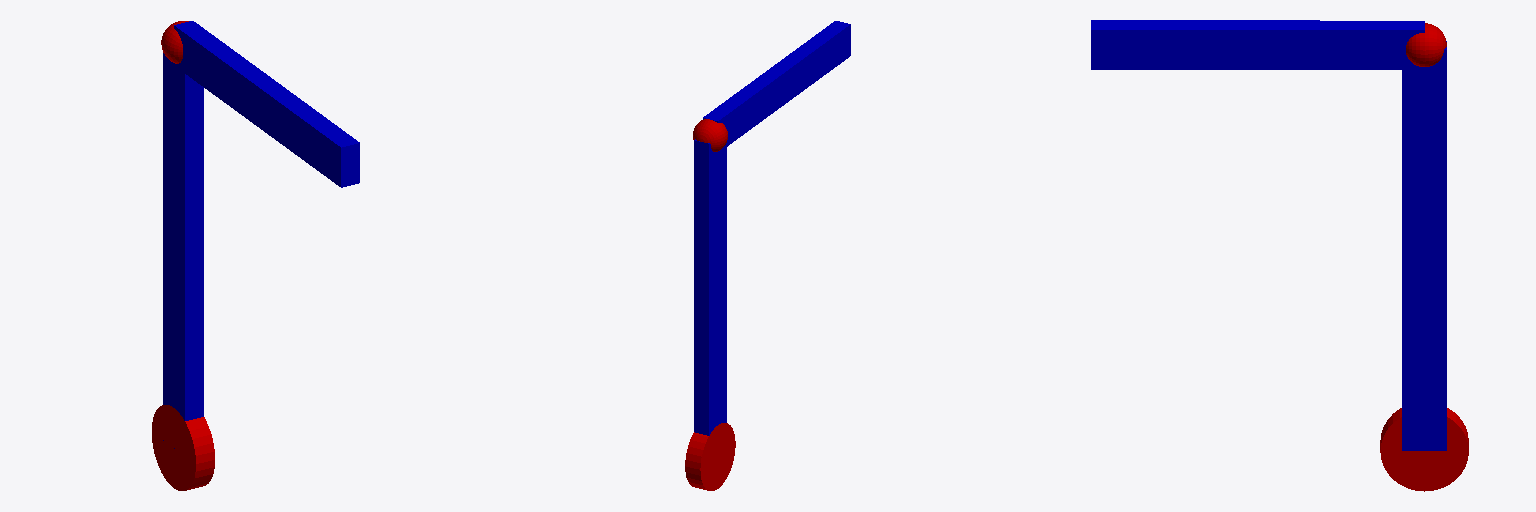
The robot description file, URDF, robot "TwoLinkStruct4594031946":
<?xml version="1.0"?>
<robot  name="TwoLinkStruct4594031946" >
 <material  name="blue" >
  <color  rgba="0 0 0.8 1.0" />
 </material>
 <material  name="red" >
  <color  rgba="0.8 0 0 1.0" />
 </material>
 <link  name="base_link" >
  <visual >
   <origin  rpy="0 1.5707 0"  xyz="0 0 0" />
   <material  name="red" />
   <geometry >
    <cylinder  length="0.05"  radius="0.1" />
   </geometry>
  </visual>
 </link>
 <joint  type="revolute"  name="joint1" >
  <parent  link="base_link" />
  <child  link="link1" />
  <origin  xyz="0 0 0"  rpy="0 0 0" />
  <axis  xyz="1 0 0" />
 </joint>
 <link  name="link1" >
  <inertial >
   <origin  rpy="0 0 0"  xyz="0 0 0.4997479538070032" />
   <mass  value="4.017385409107768" />
   <inertia  ixy="0.0"  iyy="0.0016739105871282371"  izz="0.33528163555768314"  ixz="0.0"  ixx="0.33528163555768314"  iyz="0.0" />
  </inertial>
  <visual >
   <origin  rpy="0 0 0"  xyz="0 0 0.4997479538070032" />
   <material  name="blue" />
   <geometry >
    <box  size="0.05 0.1 0.9994959076140064" />
   </geometry>
  </visual>
 </link>
 <joint  type="fixed"  name="joint-joint-1" >
  <parent  link="link1" />
  <child  link="joint-link-1" />
  <origin  xyz="0 0 0.9994959076140064"  rpy="1.5707 0 0" />
  <axis  xyz="1 0 0" />
 </joint>
 <link  name="joint-link-1" >
  <inertial >
   <origin  rpy="0 0 0"  xyz="0 0 0" />
   <mass  value="0.9812195619472411" />
   <inertia  ixy="0"  iyy="0"  izz="0"  ixz="0"  ixx="0"  iyz="0" />
  </inertial>
  <visual >
   <origin  rpy="0 0 0"  xyz="0 0 0" />
   <material  name="red" />
   <geometry >
    <sphere  radius="0.05" />
   </geometry>
  </visual>
 </link>
 <joint  type="revolute"  name="joint2" >
  <parent  link="link1" />
  <child  link="link2" />
  <origin  xyz="0 0 0.9994959076140064"  rpy="1.5707 0 0" />
  <axis  xyz="1 0 0" />
 </joint>
 <link  name="link2" >
  <inertial >
   <origin  rpy="0 0 0"  xyz="0 0 0.37642178841868046" />
   <mass  value="2.425648634577637" />
   <inertia  ixy="0.0"  iyy="0.0016739105871282371"  izz="0.190582571382011"  ixz="0.0"  ixx="0.190582571382011"  iyz="0.0" />
  </inertial>
  <visual >
   <origin  rpy="0 0 0"  xyz="0 0 0.37642178841868046" />
   <material  name="blue" />
   <geometry >
    <box  size="0.05 0.1 0.7528435768373609" />
   </geometry>
  </visual>
 </link>
 <joint  type="fixed"  name="eef_joint" >
  <parent  link="link2" />
  <child  link="eef" />
  <origin  xyz="0 0 0.7528435768373609"  rpy="0 0 0" />
 </joint>
 <link  name="eef" >
  <inertial >
   <origin  rpy="0 0 0"  xyz="0 0 0" />
   <mass  value="1" />
   <inertia  ixy="0"  iyy="0"  izz="0"  ixz="0"  ixx="0"  iyz="0" />
  </inertial>
 </link>
 <transmission  name="motor1" >
  <type  xmltext="SimpleTransmission" >
   SimpleTransmission
  </type>
  <actuator  name="motor1" >
   <mechanicalreduction  xmltext="1" >
    1
   </mechanicalreduction>
  </actuator>
  <joint  name="joint1" />
 </transmission>
 <transmission  name="motor2" >
  <type  xmltext="SimpleTransmission" >
   SimpleTransmission
  </type>
  <actuator  name="motor2" >
   <mechanicalreduction  xmltext="1" >
    1
   </mechanicalreduction>
  </actuator>
  <joint  name="joint2" />
 </transmission>
</robot>

<!-- {'carti': array([-0.1 ,  0.14,  0.85]), 'cartd': array([-0.1 ,  0.32,  1.29]), 'tau_mu': 0.34028190278453263, 'b0': 0.770771125538991, 'Km': 3.5640501591079676, 'k_velocity': 73.76175721391652, 'tau_max_m': 0.36509562176235755, 'omega_max_m': 7996.225785212918, 'gear_ratio': 14.438549083275804, 'Kp': 84.30415760495418, 'Kd': 90.96548750946137, 'm_m': 0.9812195619472411, 'l1': 0.9994959076140064, 'l2': 0.7528435768373609, 'k1': 10024.712722477423, 'k2': 65275142.12501995, 'k3': 333756566.77244705}-->

--- Render facts (derived) ---
Views: 3 orthographic renders of the robot side by side, from view 1: azimuth 30°, elevation 25°; view 2: azimuth 150°, elevation 25°; view 3: azimuth 270°, elevation 25°.
Robot: TwoLinkStruct4594031946 — 5 links, 4 joints (2 revolute, 2 fixed); root link base_link; default pose: all joints at 0.
Visible links, largest first — view 1: link1, link2, base_link, joint-link-1; view 2: link1, link2, base_link, joint-link-1; view 3: link1, link2, base_link, joint-link-1.
Boxes of the visible links, bbox=[...] form: link1: bbox=[163, 52, 203, 448]; link2: bbox=[174, 21, 359, 187]; base_link: bbox=[152, 405, 214, 490]; joint-link-1: bbox=[161, 21, 188, 63]; link1: bbox=[694, 139, 726, 435]; link2: bbox=[703, 21, 850, 148]; base_link: bbox=[685, 423, 735, 490]; joint-link-1: bbox=[693, 119, 727, 151]; link1: bbox=[1402, 41, 1446, 450]; link2: bbox=[1091, 20, 1424, 69]; base_link: bbox=[1380, 408, 1468, 491]; joint-link-1: bbox=[1406, 23, 1446, 66].
Size in the robot's own frame: 0.1 by 0.8528 by 1.15 metres.
Geometry: primitives only (box / cylinder / sphere), no mesh files.
